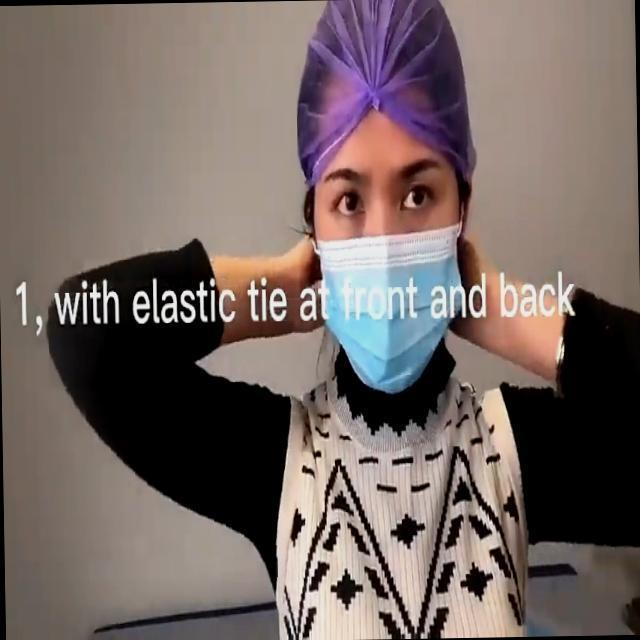gloves: (307, 0, 465, 134)
mask: (312, 233, 474, 393)
